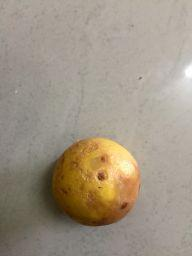lemon: (50, 132, 143, 234)
